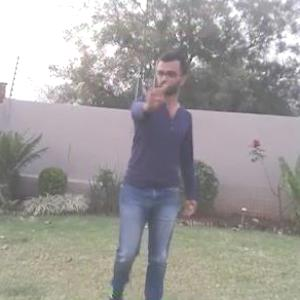takeoff-hand: (136, 73, 176, 119)
